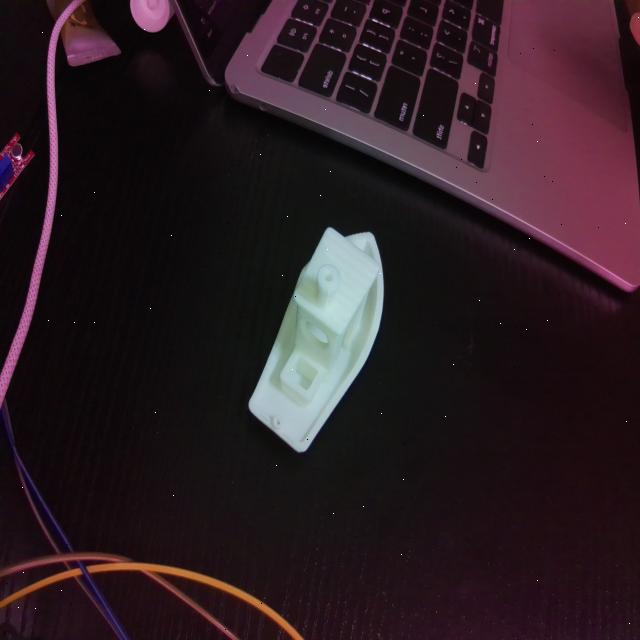ship: (248, 225, 384, 450)
